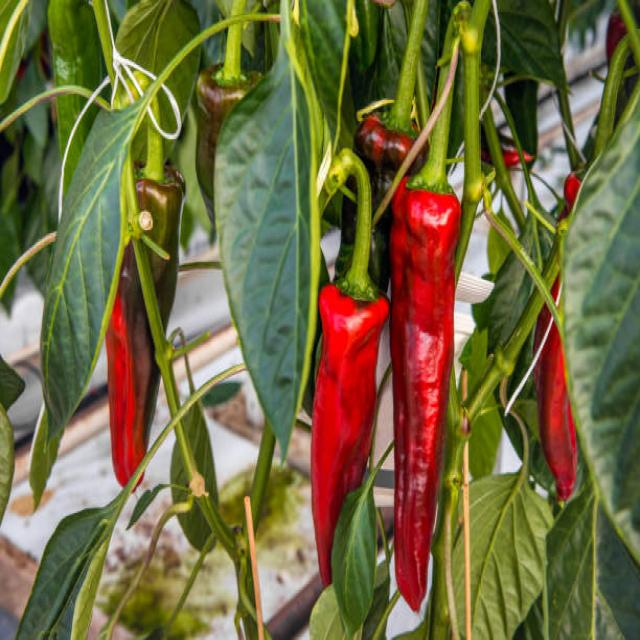Ripe: (390, 186, 463, 611), (311, 284, 391, 579), (106, 242, 153, 489), (538, 333, 579, 507)
